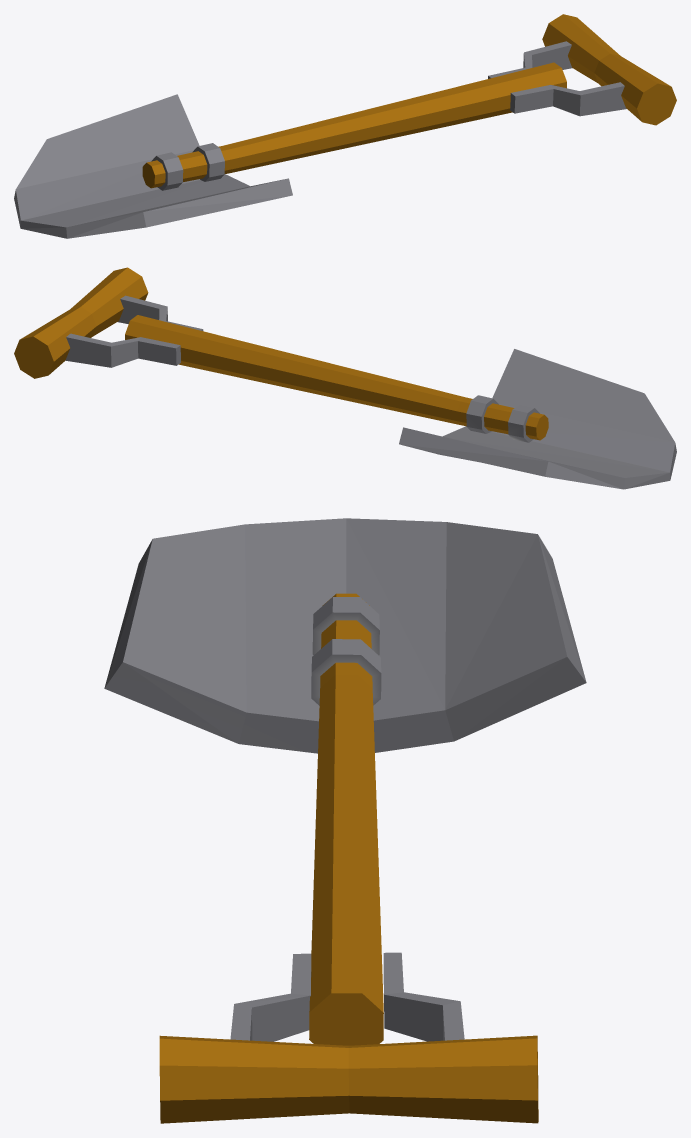
The model's file is shovel.fbx.
3 views of the same model, one above another, from view 1: azimuth 30°, elevation 25°; view 2: azimuth 150°, elevation 25°; view 3: azimuth 270°, elevation 25° (orthographic). The views are drawn at different scales.
Parts seen in each view (by area): view 1: shovel; view 2: shovel; view 3: shovel.
Boxes of the visible parts, x1,y1,x2,y2 form: shovel: (14,14,676,238); shovel: (14,267,676,489); shovel: (104,518,586,1123).
Bounding box in the file's own units: 220 × 18.69 × 75.52.
